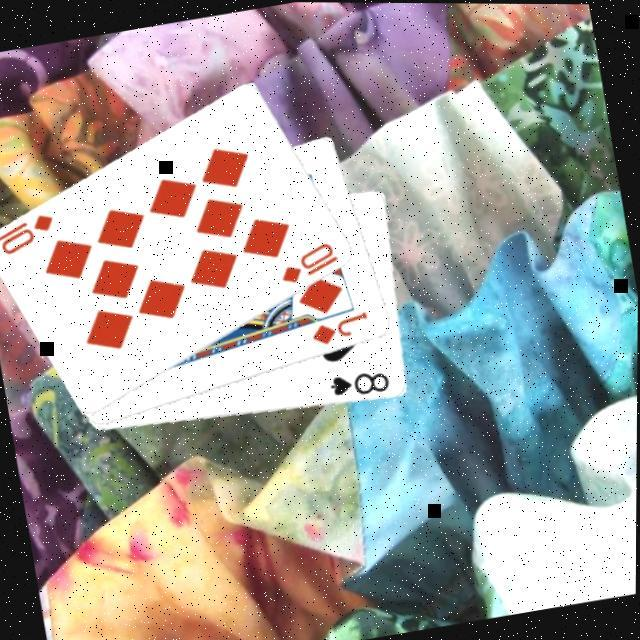10D: (273, 238, 344, 290), (0, 209, 61, 261)
8S: (324, 366, 394, 405)
JD: (306, 308, 374, 352)
